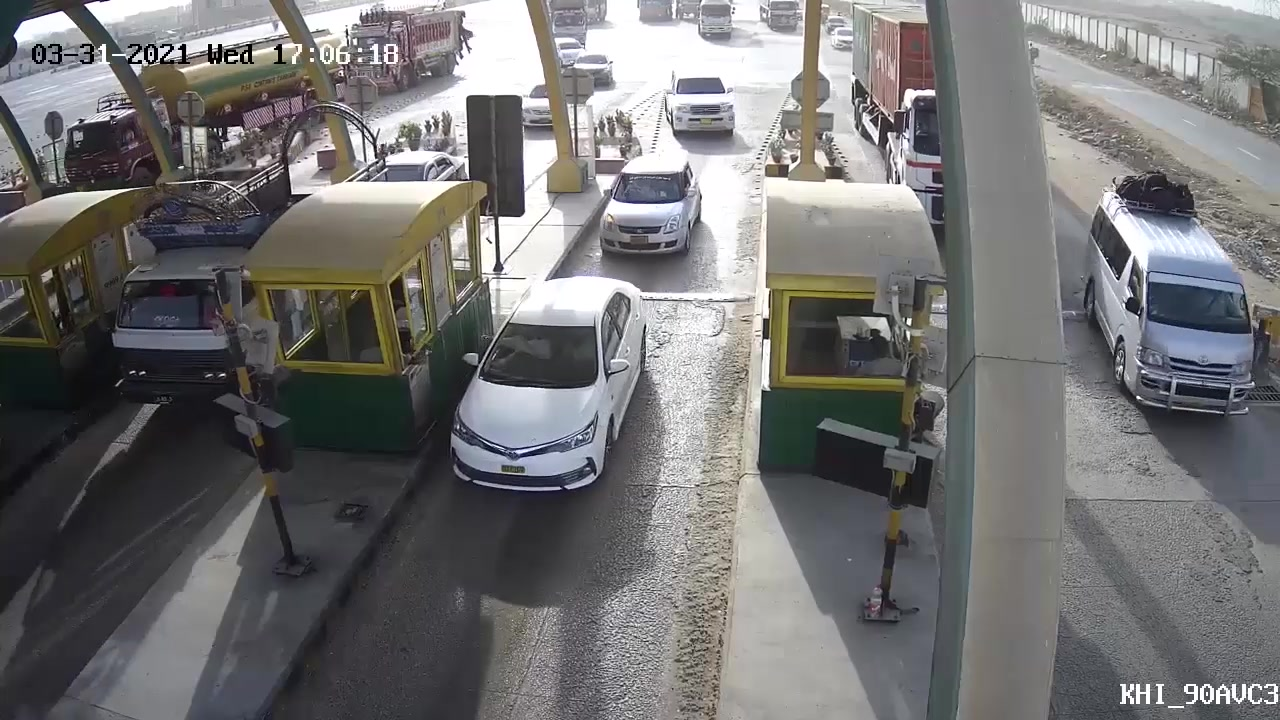F1: (443, 270, 652, 505), (592, 146, 708, 257), (656, 59, 748, 142)
